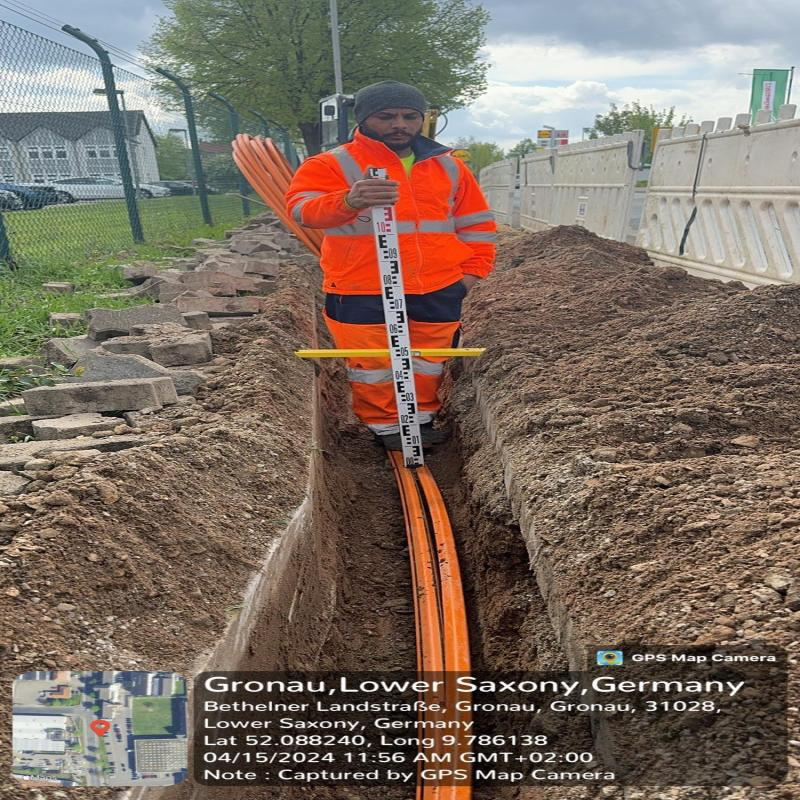Orang-Speednetrohrchen: (390, 451, 469, 672)
